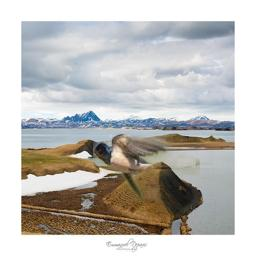Swallow: (93, 134, 200, 200)
